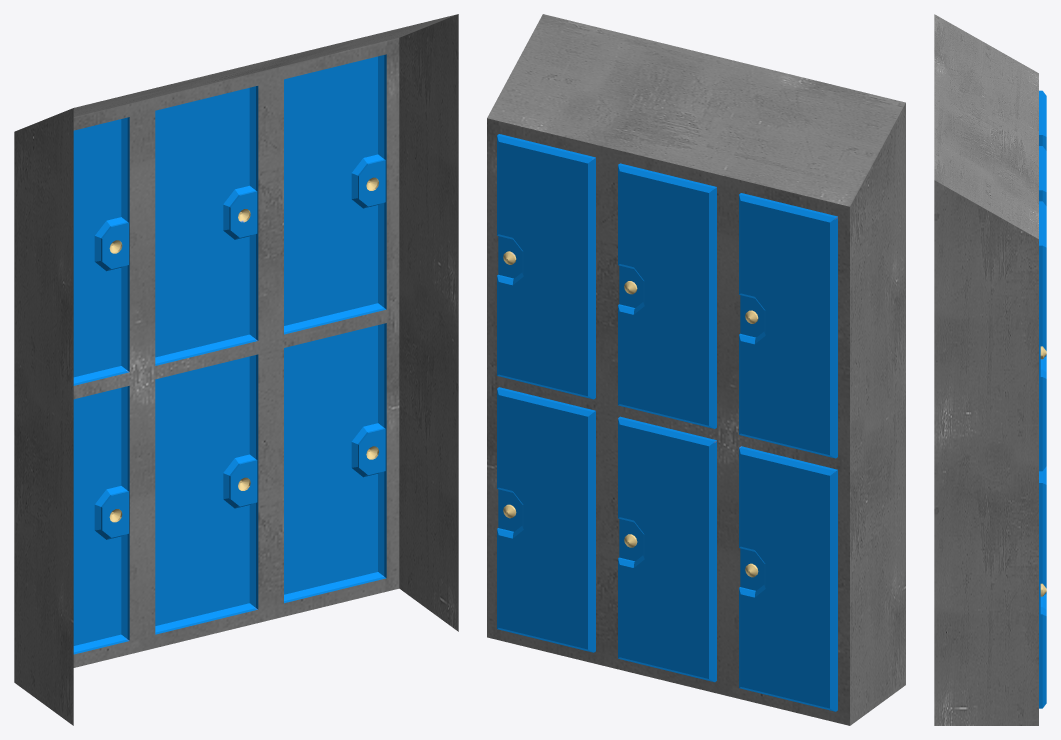
The model's file is lockers.gltf.
3 renders of one model, left to right at view 1: azimuth 30°, elevation 25°; view 2: azimuth 150°, elevation 25°; view 3: azimuth 270°, elevation 25°, orthographic. The views are drawn at different scales.
Visible parts, largest first — view 1: lockers; view 2: lockers; view 3: lockers.
Boxes of the visible parts, box(x1,y1,x2,y2) form: lockers: box(14, 14, 458, 725); lockers: box(487, 14, 905, 725); lockers: box(934, 14, 1046, 725).
Bounding box in the file's own units: 3 × 4.6 × 0.86.
Materials: 1 (1 with a texture image).
